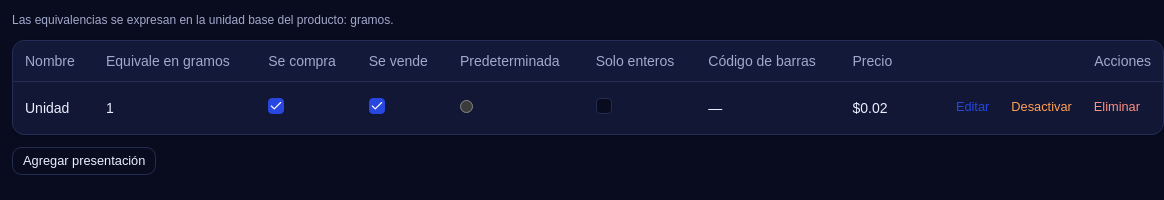
PresentationsTab — la fila se puede operar › un precio con tres decimales bloquea el guardado de la fila
Click the button "Editar" at {"x": 973, "y": 108}, box [945,94,1000,122]
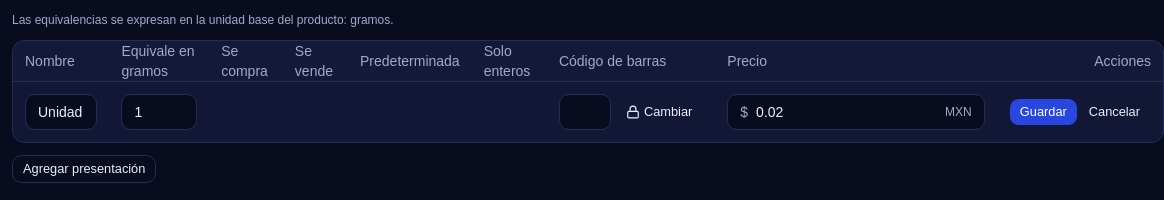
Replace the text in the field named "Precio" with "15.555" at {"x": 847, "y": 112}, box [756,102,937,122]
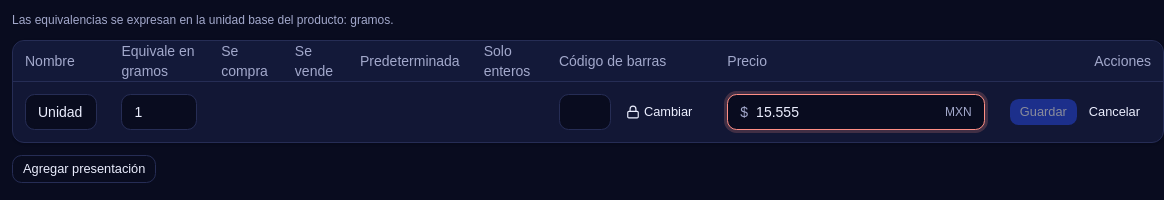
Now the button "Guardar" is disabled, box [1009,98,1078,126]
